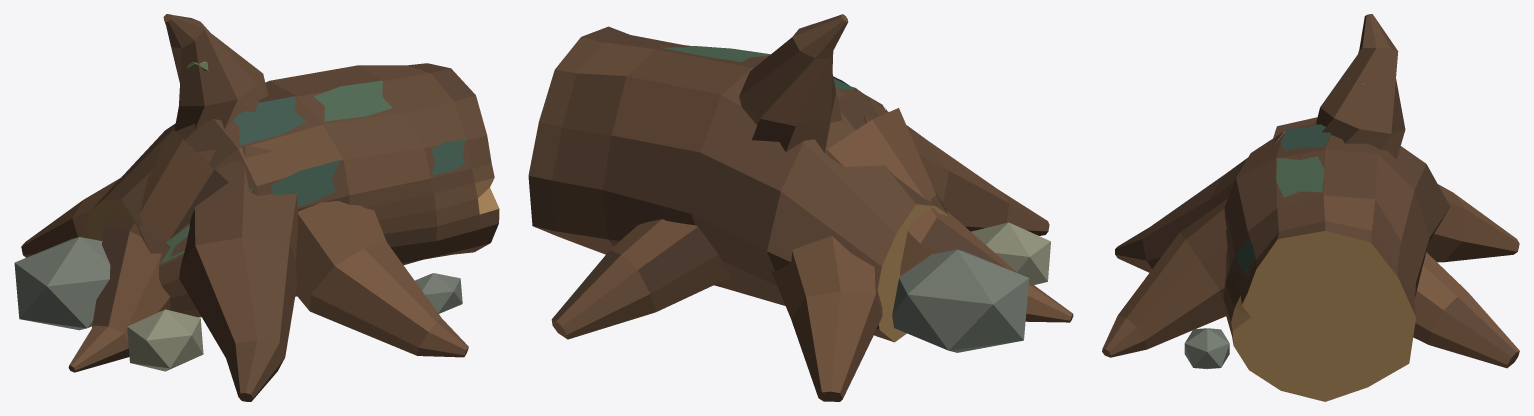
Rendered from rootfall-left.glb.
3 renders of one model, left to right at view 1: azimuth 30°, elevation 25°; view 2: azimuth 150°, elevation 25°; view 3: azimuth 270°, elevation 25°, orthographic. The views are drawn at different scales.
Parts seen in each view (by area): view 1: rootfall-left; view 2: rootfall-left; view 3: rootfall-left.
Part boxes in pixels (box(x1,y1,x2,y2)): rootfall-left: box(14, 14, 499, 401); rootfall-left: box(528, 14, 1073, 401); rootfall-left: box(1102, 14, 1519, 401).
Size of the model in its own units: 5.26 by 3.47 by 4.78.
Materials: 1 (1 with a texture image).
